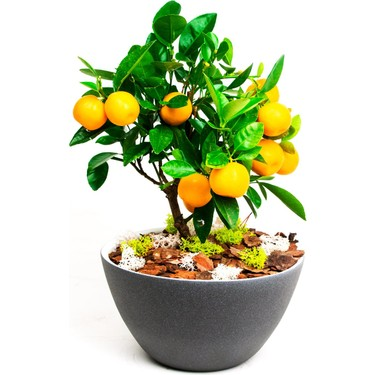portakal: (156, 79, 201, 140), (106, 85, 152, 140), (169, 164, 212, 222), (252, 100, 305, 139), (66, 88, 105, 134), (242, 140, 287, 177)
